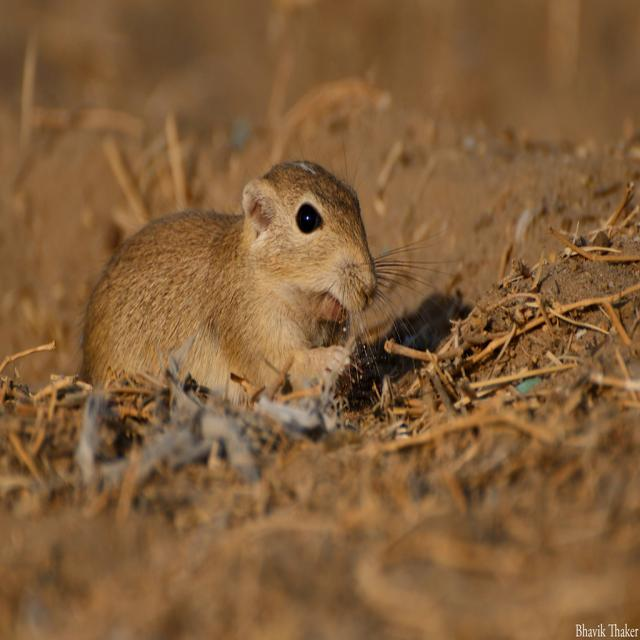rat: (68, 131, 461, 417)
